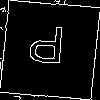P: (25, 25, 67, 74)
